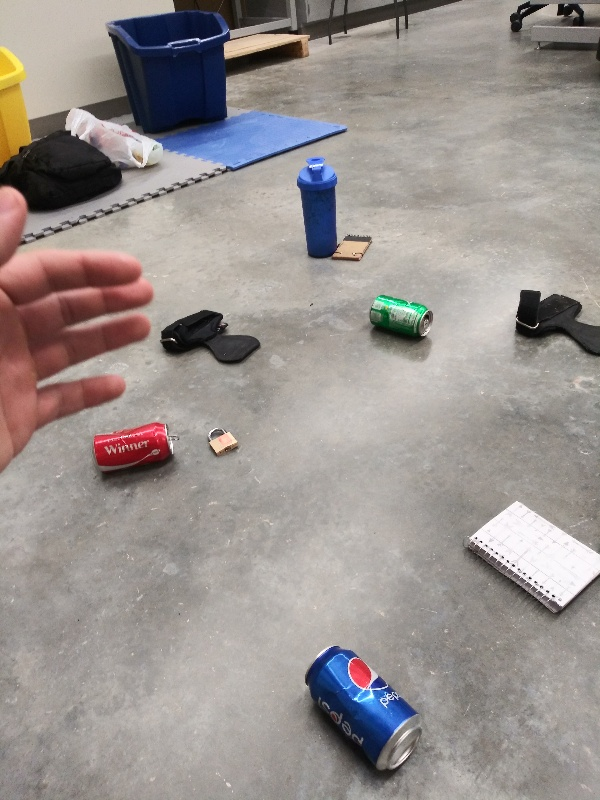can: (303, 641, 430, 779), (87, 418, 182, 483), (366, 289, 438, 346)
